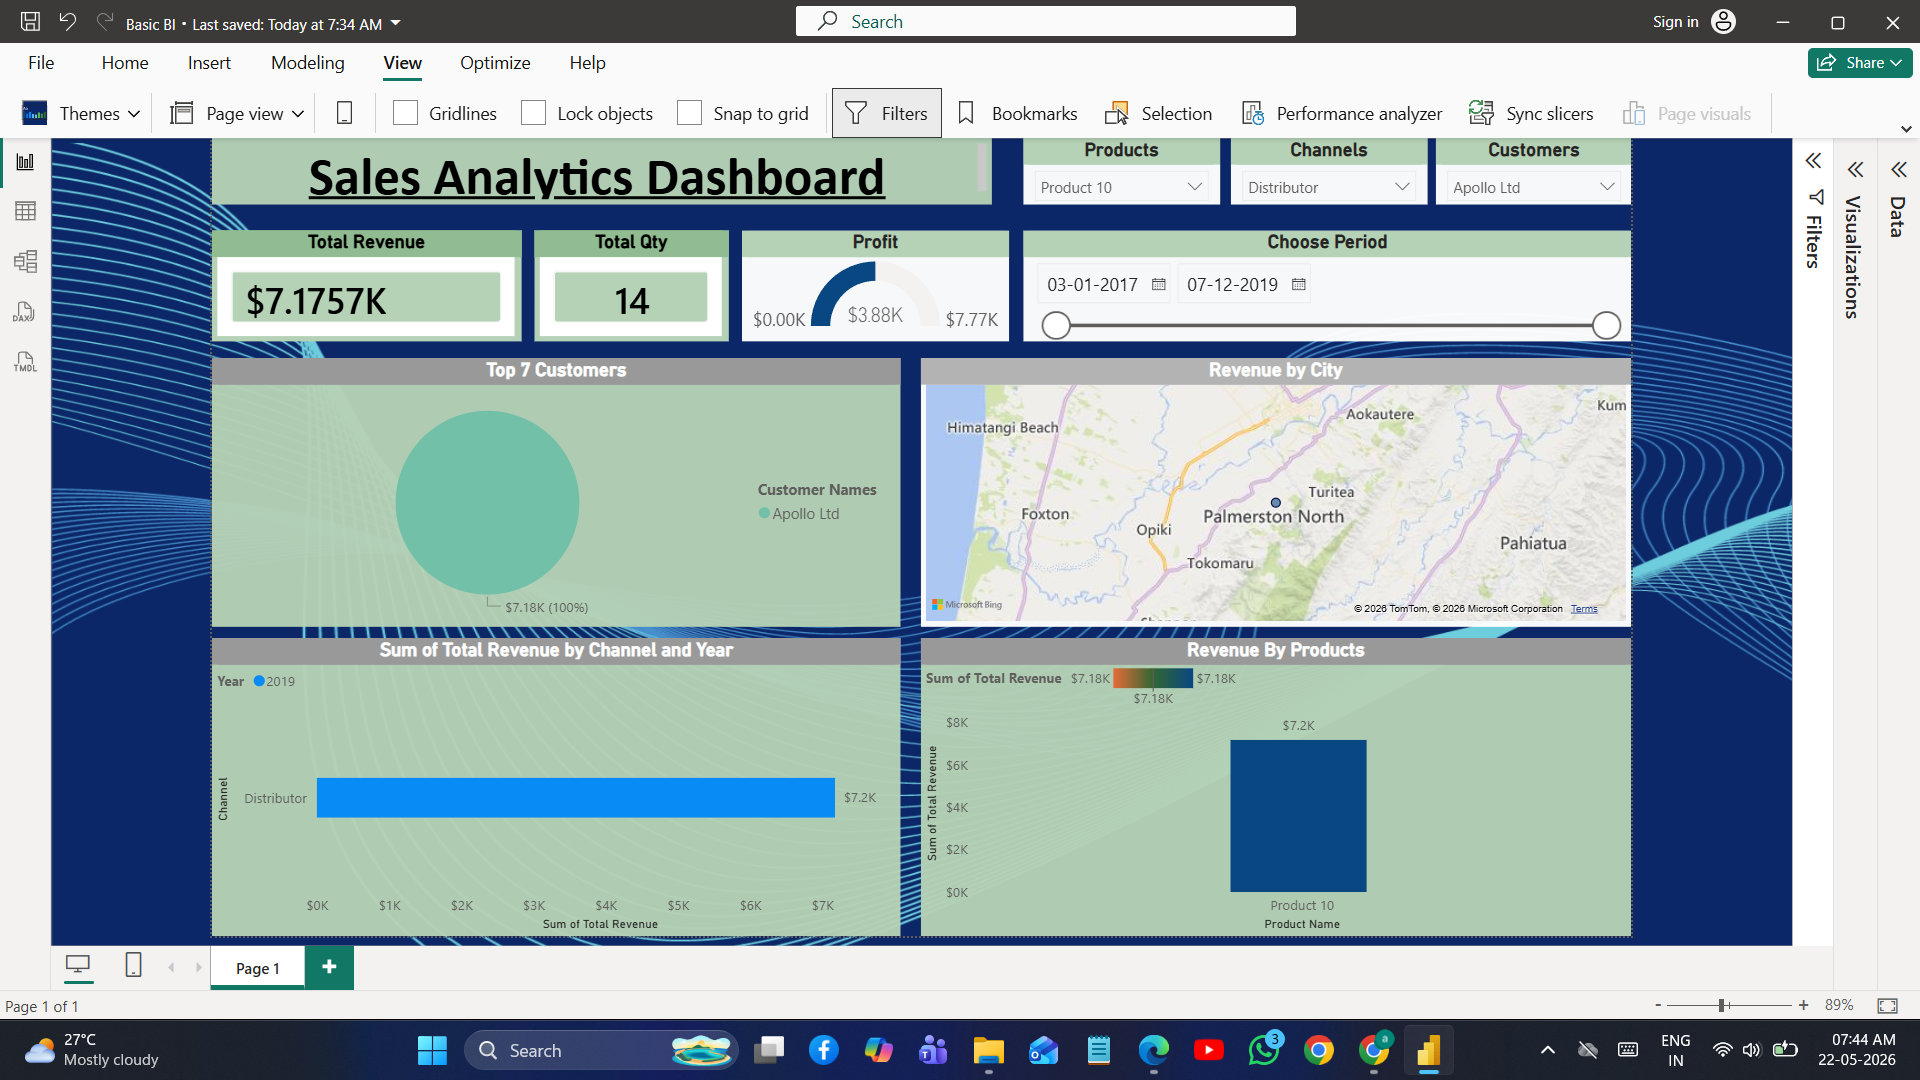

This screenshot's page, from the dashboard's own definition file:
{"tool":"powerbi","page":{"name":"Page 1","canvas":[1280,720],"ordinal":0},"visuals":[{"type":"barChart","fields":{"Category":["Sales_Data.Channel"],"Y":["Sum(Sales_Data.Total Revenue)"],"Series":["Sales_Data.OrderDate.Variation.Date Hierarchy.Year"]},"box":[0,451.2,621.2,269],"z":0},{"type":"columnChart","title":"Revenue By Products","fields":{"Category":["Products_Data.Product Name","Sales_Data.OrderDate.Variation.Date Hierarchy.Year"],"Y":["Sum(Sales_Data.Total Revenue)"]},"box":[639.5,451.2,640.8,269],"z":1000},{"type":"pieChart","title":"Top 7 Customers","fields":{"Category":["Customer_Data.Customer Names"],"Y":["Sum(Sales_Data.Total Revenue)"]},"box":[0,198.1,621.2,242.1],"z":2000},{"type":"map","title":"Revenue by City","fields":{"Category":["Regions_Table.City"],"Size":["Sum(Sales_Data.Total Revenue)"]},"box":[639.5,198.1,640.8,242.1],"z":3000},{"type":"cardVisual","title":"Total Revenue","fields":{"Data":["Sum(Sales_Data.Total Revenue)"]},"box":[0,83.2,278.8,100.3],"z":4000},{"type":"cardVisual","title":"Total Qty","fields":{"Data":["Sum(Sales_Data.Order Quantity)"]},"box":[291,83.2,174.9,100.3],"z":5000},{"type":"gauge","title":"Profit","fields":{"Y":["Sum(Sales_Data.Profit)"]},"box":[478.1,83.2,240.9,100.3],"z":6000},{"type":"slicer","title":"Choose Period","fields":{"Values":["Sales_Data.OrderDate"]},"box":[731.3,83.2,549.1,100.3],"z":7000},{"type":"slicer","title":"Customers","fields":{"Values":["Customer_Data.Customer Names"]},"box":[1103,0,177.3,59.9],"z":8000},{"type":"slicer","title":"Channels","fields":{"Values":["Sales_Data.Channel"]},"box":[918.3,0,177.3,59.9],"z":9000},{"type":"slicer","title":"Products","fields":{"Values":["Products_Data.Product Name"]},"box":[731.3,0,177.3,59.9],"z":10000},{"type":"textbox","box":[0,0,703.1,59.9],"z":11000}]}

Visuals, with their boxes on the page's 1280x720 design canvas (x1, y1, x2, y2). These are canvas units, not pixel positions in the 1920x1080 screenshot, which may show the page scaled, cropped or inside an application window:
barChart - Sales_Data.Channel x Sum(Sales_Data.Total Revenue): 0/451/621/720
"Revenue By Products" columnChart: 640/451/1280/720
"Top 7 Customers" pieChart: 0/198/621/440
"Revenue by City" map: 640/198/1280/440
"Total Revenue" cardVisual: 0/83/279/184
"Total Qty" cardVisual: 291/83/466/184
"Profit" gauge: 478/83/719/184
"Choose Period" slicer: 731/83/1280/184
"Customers" slicer: 1103/0/1280/60
"Channels" slicer: 918/0/1096/60
"Products" slicer: 731/0/909/60
textbox: 0/0/703/60
